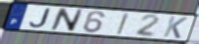2: (134, 13, 161, 38)
6: (81, 10, 107, 34)
I: (115, 12, 131, 36)
J: (28, 8, 52, 29)
K: (162, 15, 189, 40)
N: (48, 7, 85, 33)
